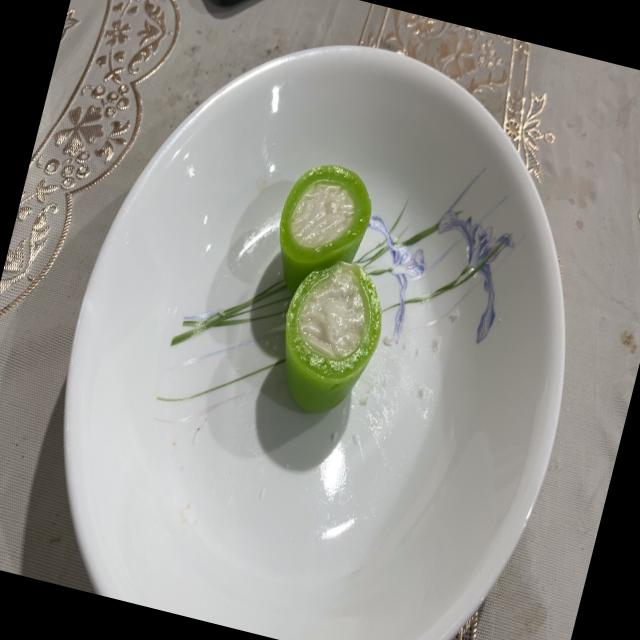nona-manis: (285, 261, 381, 413), (279, 164, 371, 293)
